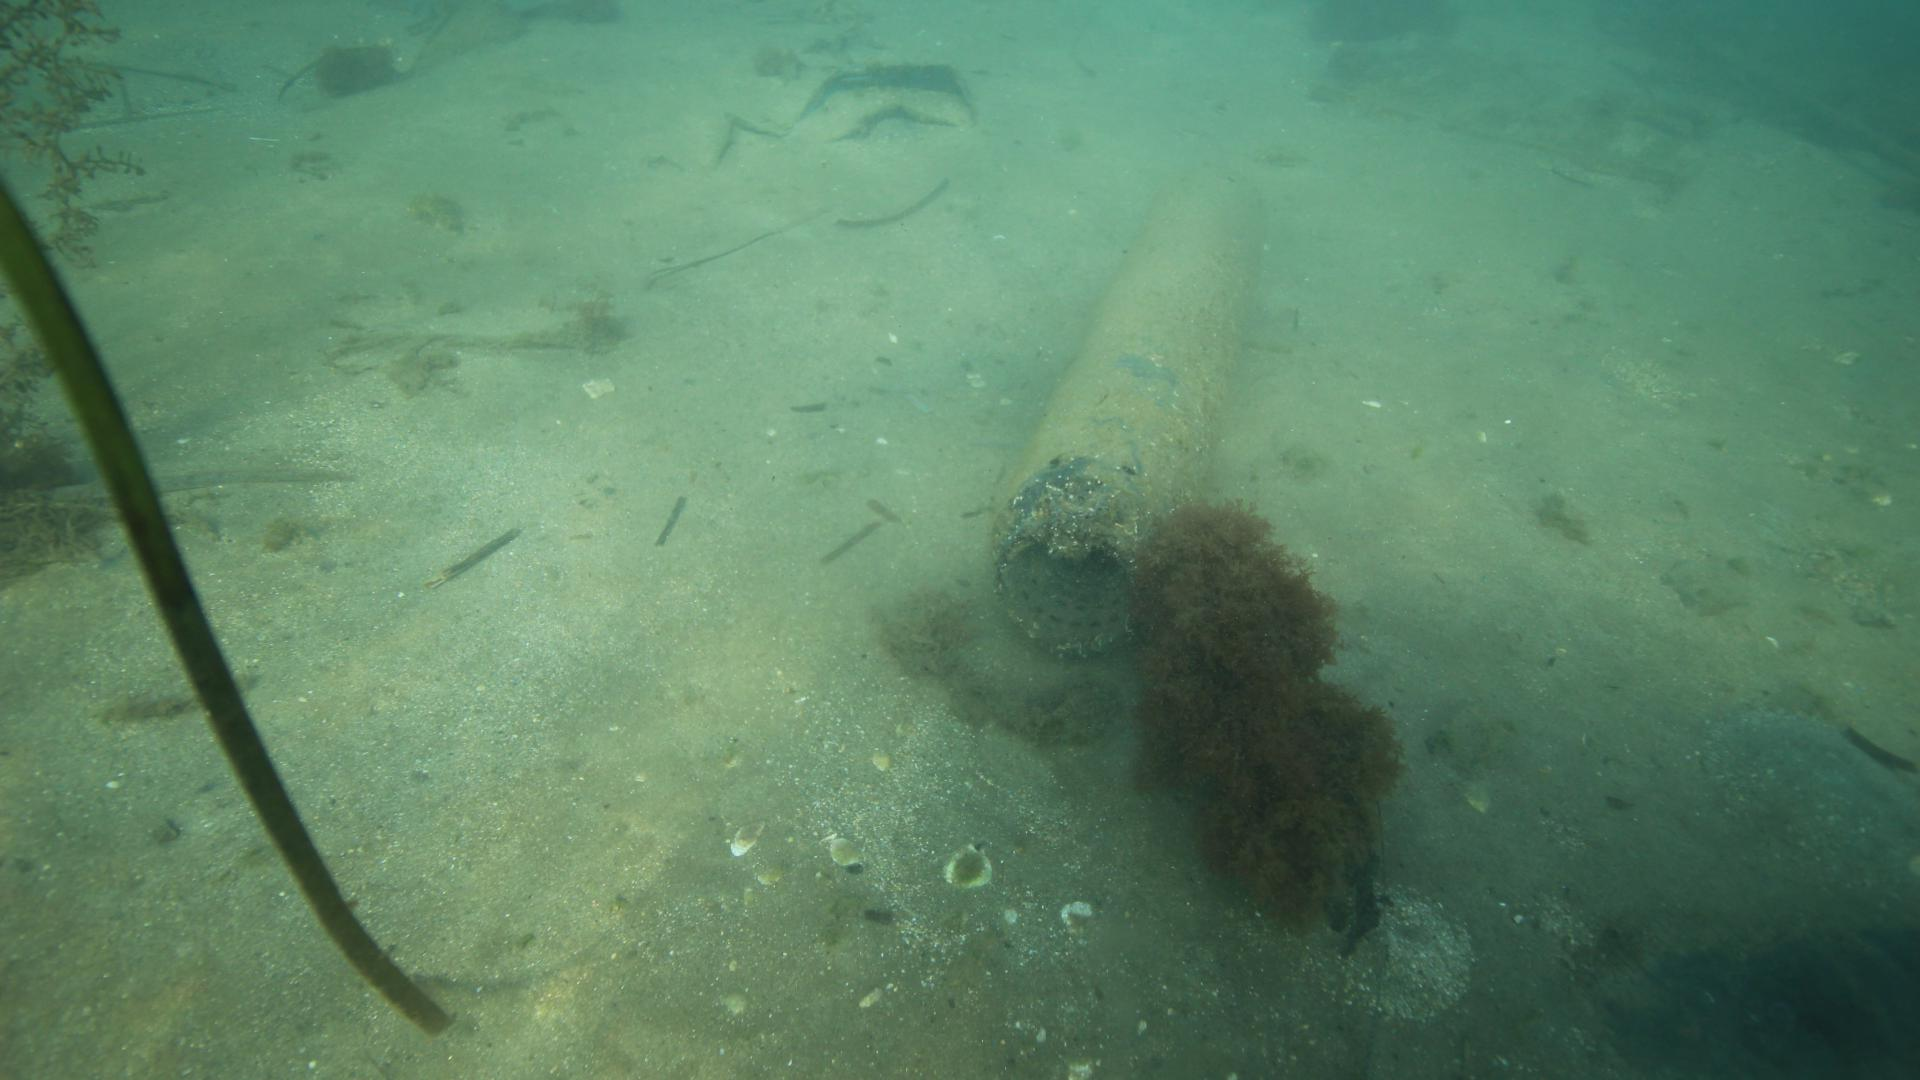eel fish trap: (986, 161, 1273, 659)
